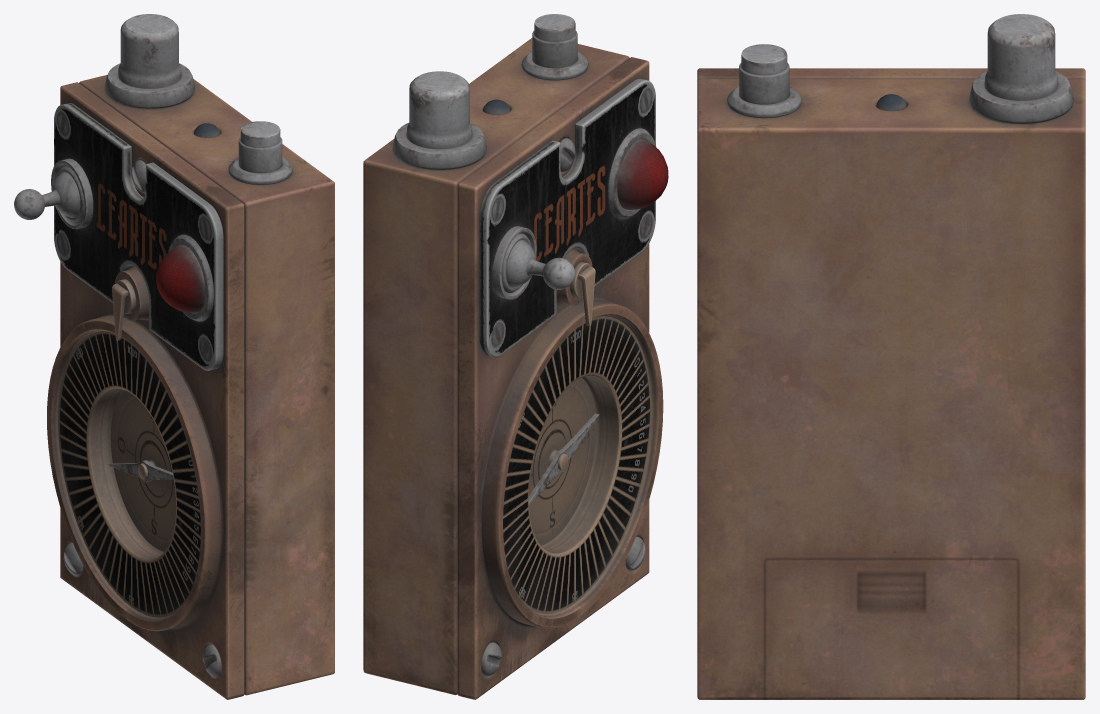
Rendered from SM_Compass_01.fbx.
The picture shows the model from 3 angles, left to right: view 1: azimuth 30°, elevation 25°; view 2: azimuth 150°, elevation 25°; view 3: azimuth 270°, elevation 25°; orthographic projection. The views are drawn at different scales.
Visible parts, largest first — view 1: SM_Compass_01_LOD0; view 2: SM_Compass_01_LOD0; view 3: SM_Compass_01_LOD0.
Boxes of the visible parts, left/top/right/bottom form: SM_Compass_01_LOD0: left=14, top=14, right=334, bottom=699; SM_Compass_01_LOD0: left=363, top=14, right=668, bottom=699; SM_Compass_01_LOD0: left=697, top=14, right=1085, bottom=699.
Bounding box in the file's own units: 6.36 × 10.4 × 19.17.
